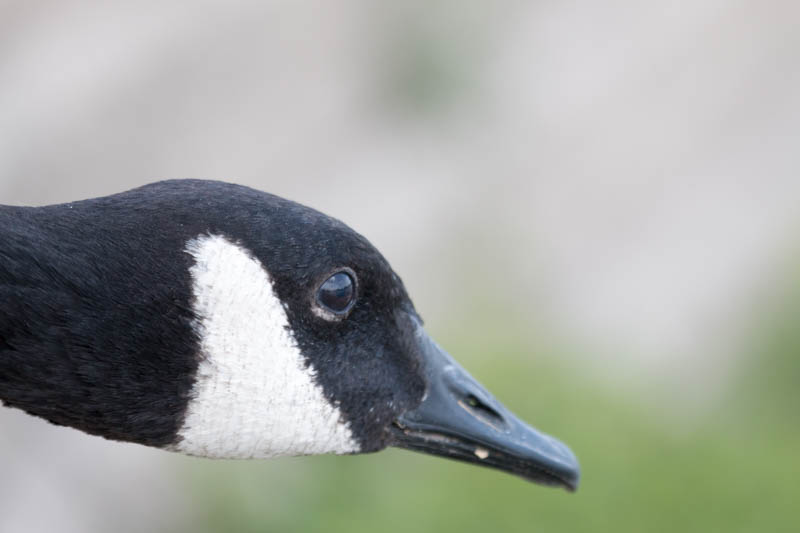goose-head: (43, 176, 581, 493)
